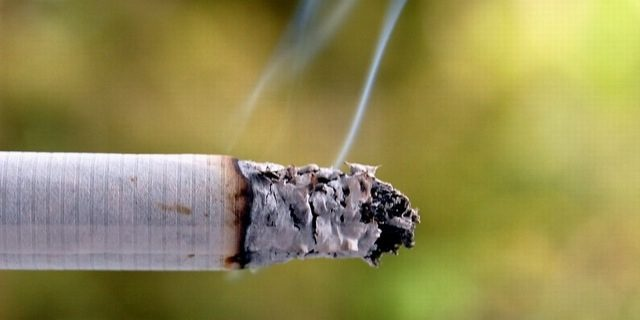sigaretta: (1, 154, 416, 260)
